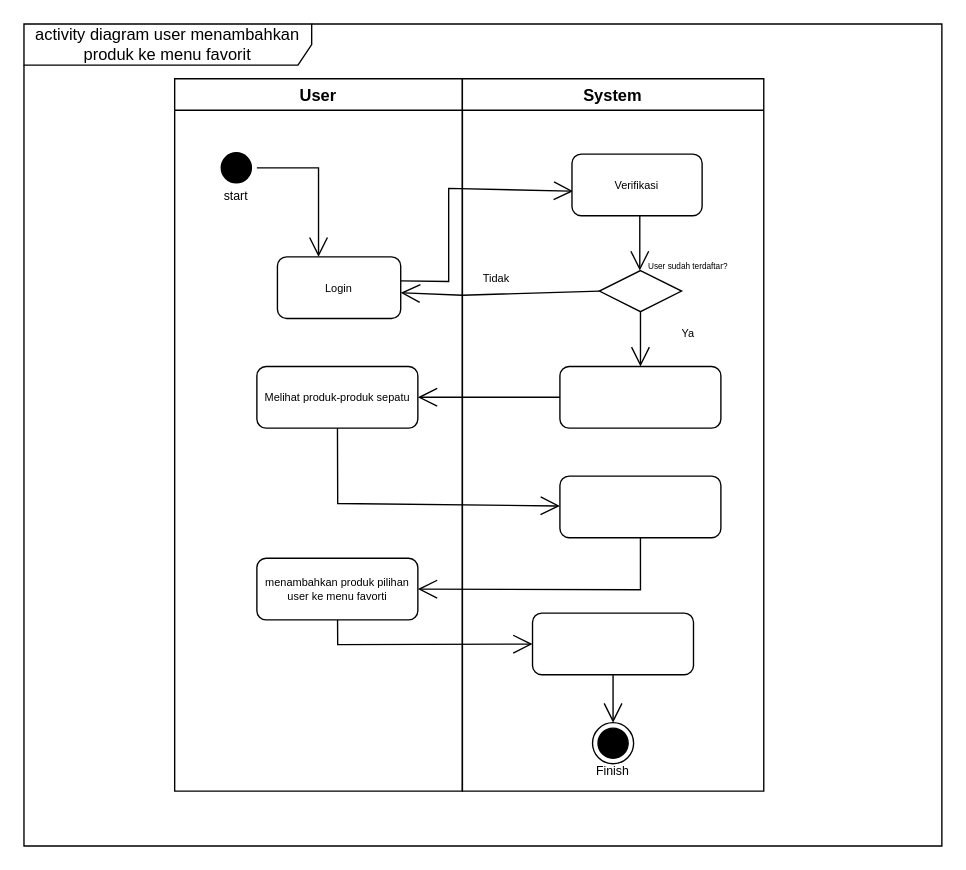
Some shapes in this 966 by 870 pixel diagram are drawn without their labels. Here are the shapes that lost their labels. From the top down, the centre of each, then its label:
(x=640, y=396): Menampilkan menu homepage
(x=640, y=506): Menampilkan produk-produk sepatu
(x=612, y=643): Menampilkan notifikasi berhasil
